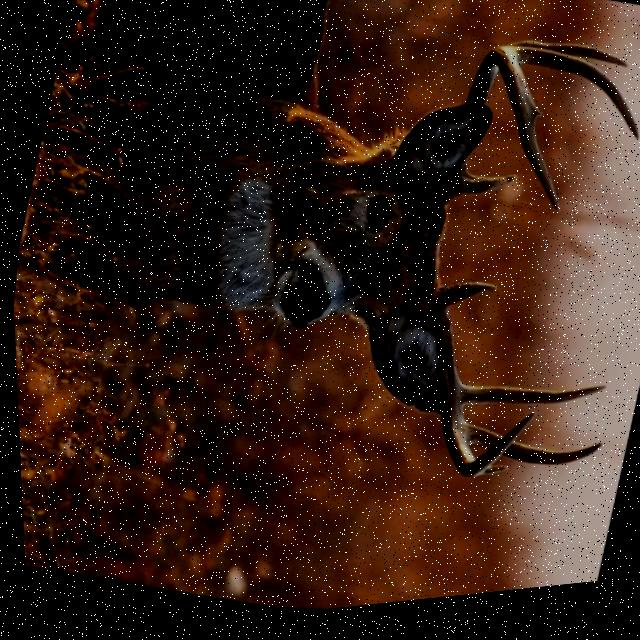L-G1: (456, 182, 515, 206)
L-G3: (510, 58, 637, 154)
R-F: (406, 282, 531, 488)
R-G1: (434, 291, 494, 318)
R-G2: (456, 392, 601, 417)
